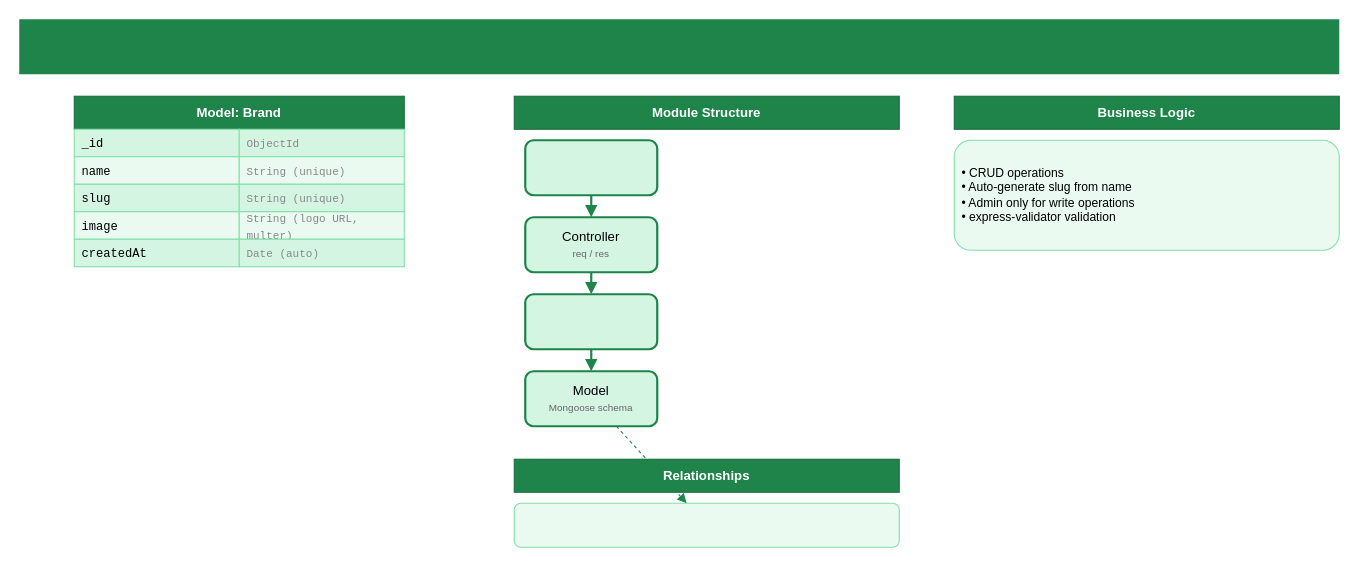
Image size: 1359x567. Some labels were removed from this diagram. The box of each missing label's shape, as (x1, y1, x2, y2) in pixels:
BRANDS MODULE Brand Management & Organization: (19, 19, 1339, 74)
Route express-validator: (524, 139, 658, 196)
Service slug generation: (524, 293, 658, 350)
• 1:N → Products (products.brand ref): (513, 502, 899, 547)
